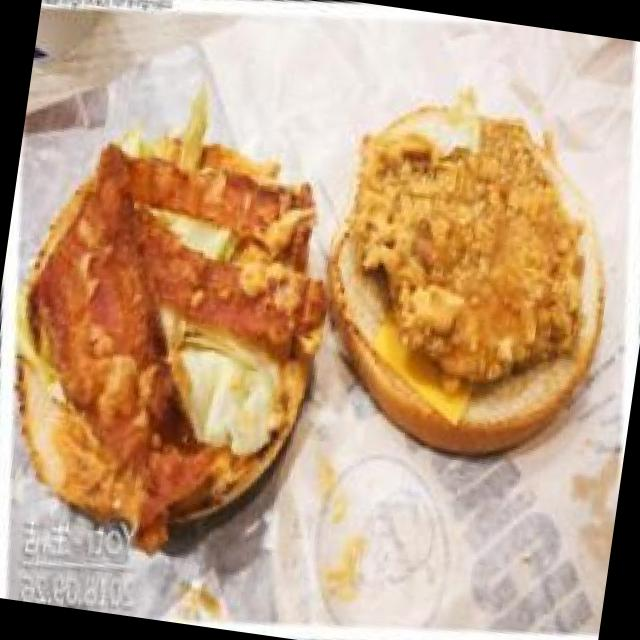fried_chicken: (324, 78, 616, 404)
